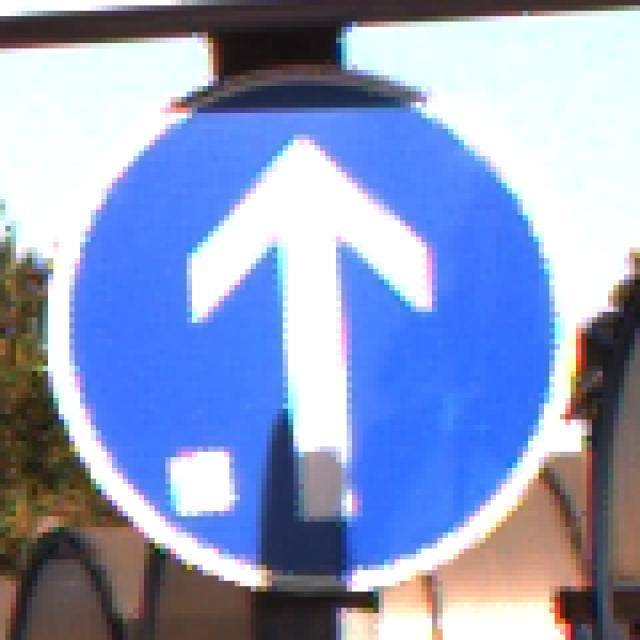compulsary ahead: (42, 63, 567, 600)
